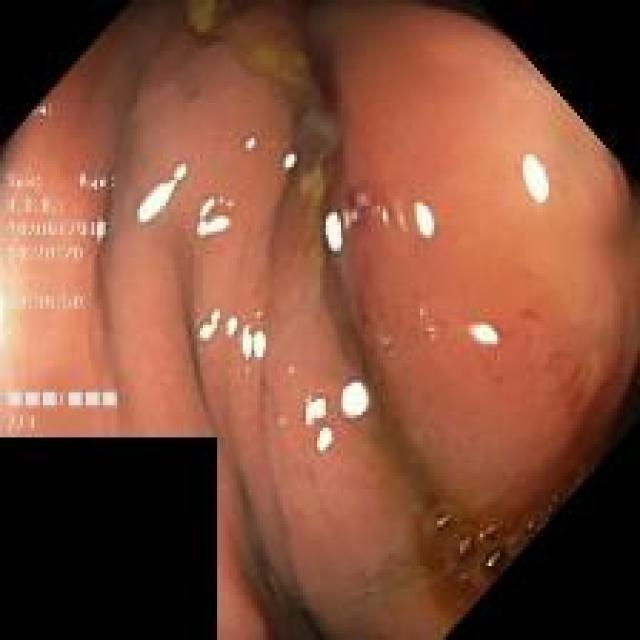Polyps: (311, 6, 640, 630)
